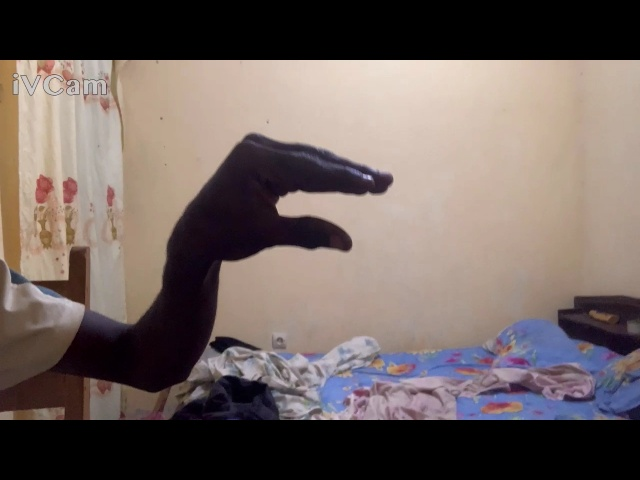non: (211, 126, 403, 272)
